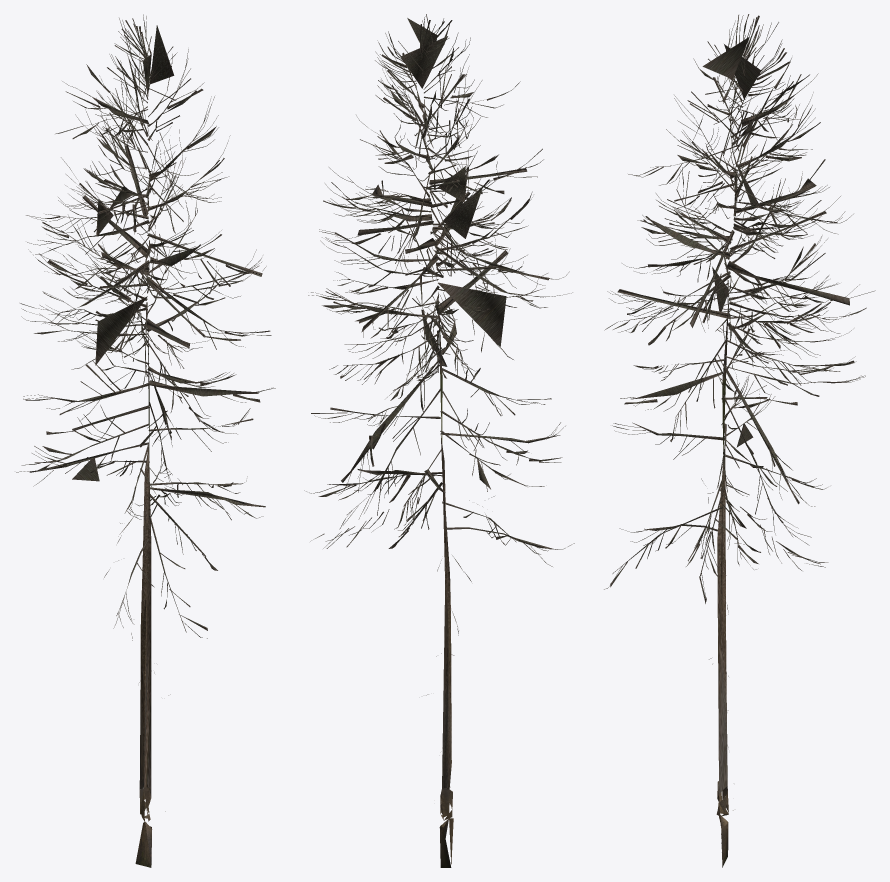
File: fir_tree_01_a_far.gltf
The picture shows the model from 3 angles, left to right: view 1: azimuth 30°, elevation 25°; view 2: azimuth 150°, elevation 25°; view 3: azimuth 270°, elevation 25°; orthographic projection. The views are drawn at different scales.
Visible parts, largest first — view 1: fir_tree_01_a_LOD0.001; view 2: fir_tree_01_a_LOD0.001; view 3: fir_tree_01_a_LOD0.001.
Part boxes in pixels (left/top/right/bottom): fir_tree_01_a_LOD0.001: left=16, top=14, right=275, bottom=867; fir_tree_01_a_LOD0.001: left=304, top=14, right=574, bottom=867; fir_tree_01_a_LOD0.001: left=604, top=14, right=875, bottom=867.
Size of the model in its own units: 5.46 by 18.29 by 5.31.
Materials: 3 (3 with a texture image).
